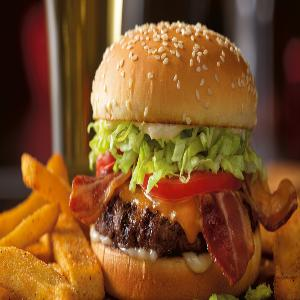cheeseburger_475cal: (77, 15, 284, 297)
